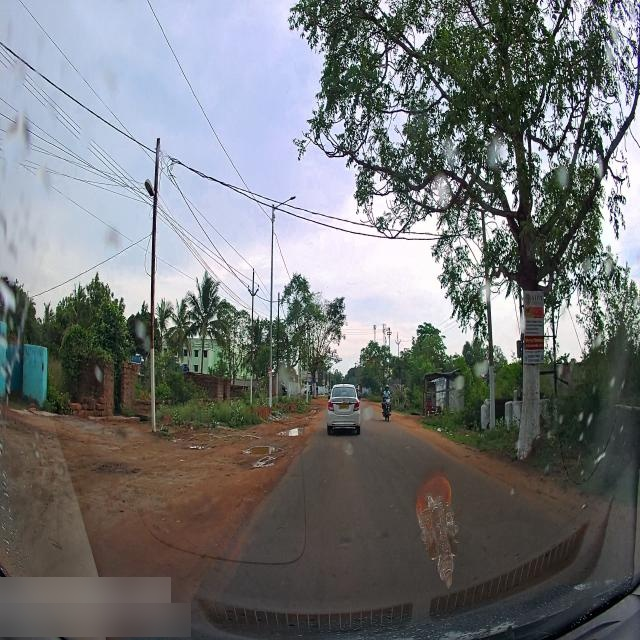pothole: (276, 416, 308, 442), (244, 442, 284, 458), (247, 458, 279, 469)
